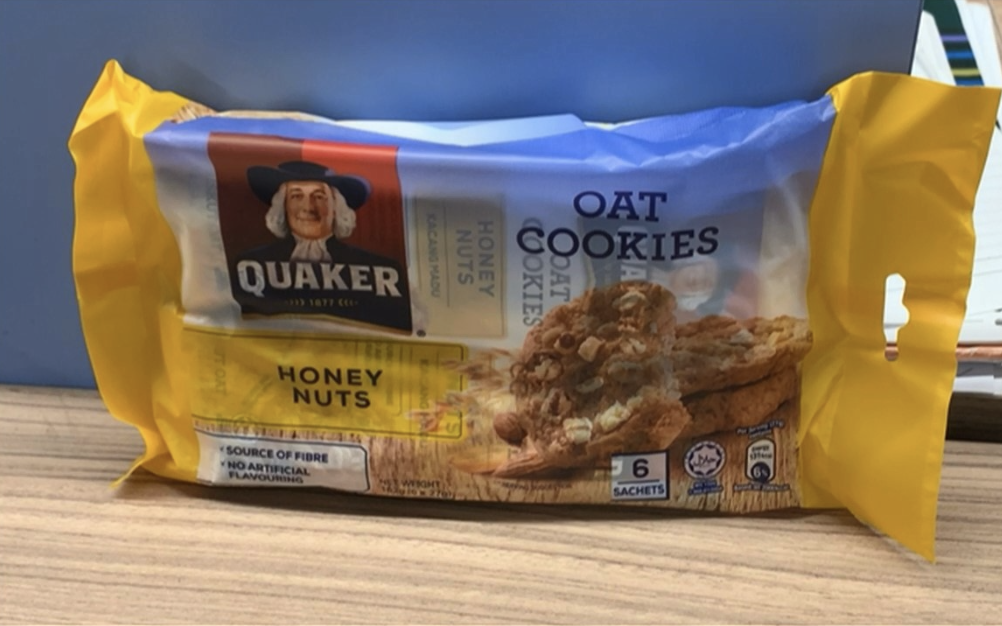cookies_150g: (189, 161, 789, 483)
